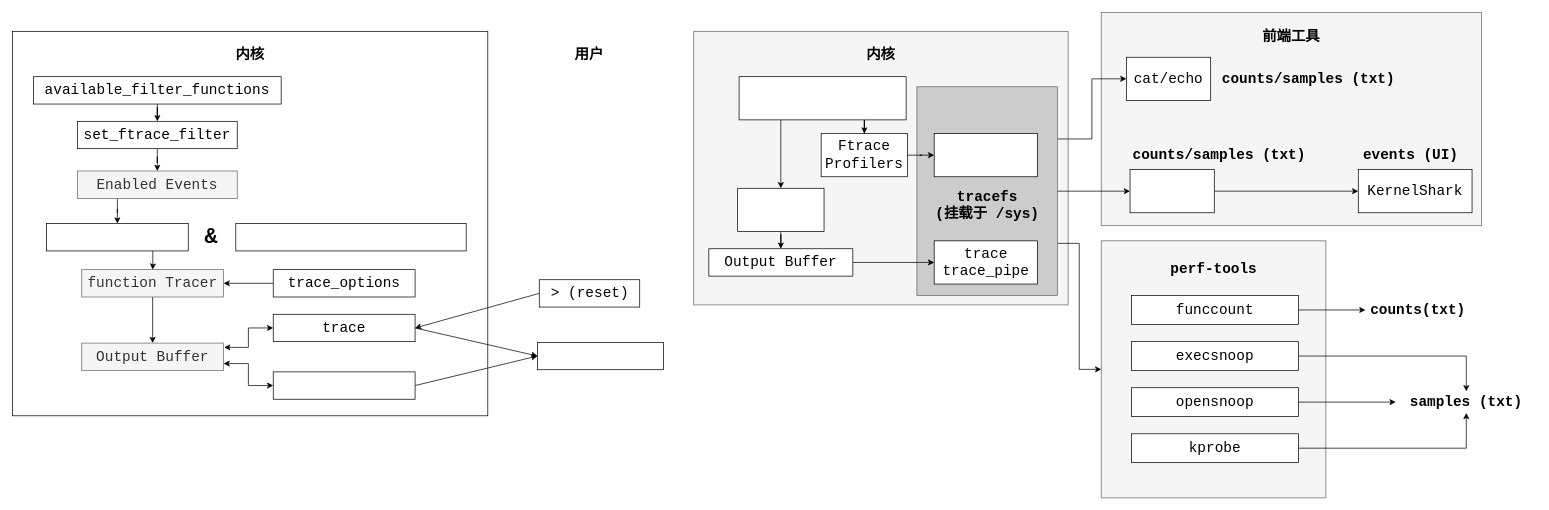
The diagram is 1549 pixels wide and 510 high, and some of its shapes have lost their labels. Here are the shapes that lost their labels. From the top down, the box of each, then its label:
(738, 76, 906, 120): Events
(933, 133, 1038, 177): trace_stat
(737, 188, 824, 231): Ftrace Tracers
(1129, 169, 1214, 213): trace-cmd
(46, 223, 188, 251): tracing_on = 1
(235, 223, 466, 251): current_tracer = function
(537, 342, 663, 370): Trace Output
(273, 371, 415, 399): trace_pipe
